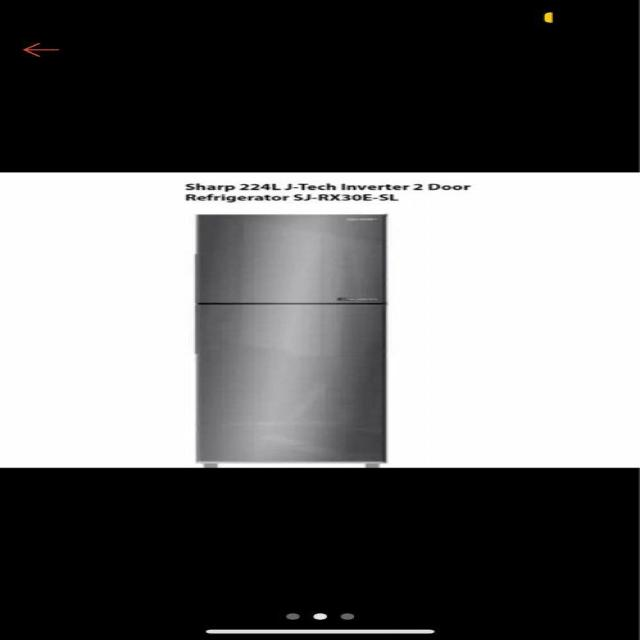refrigerator: (195, 214, 389, 463)
